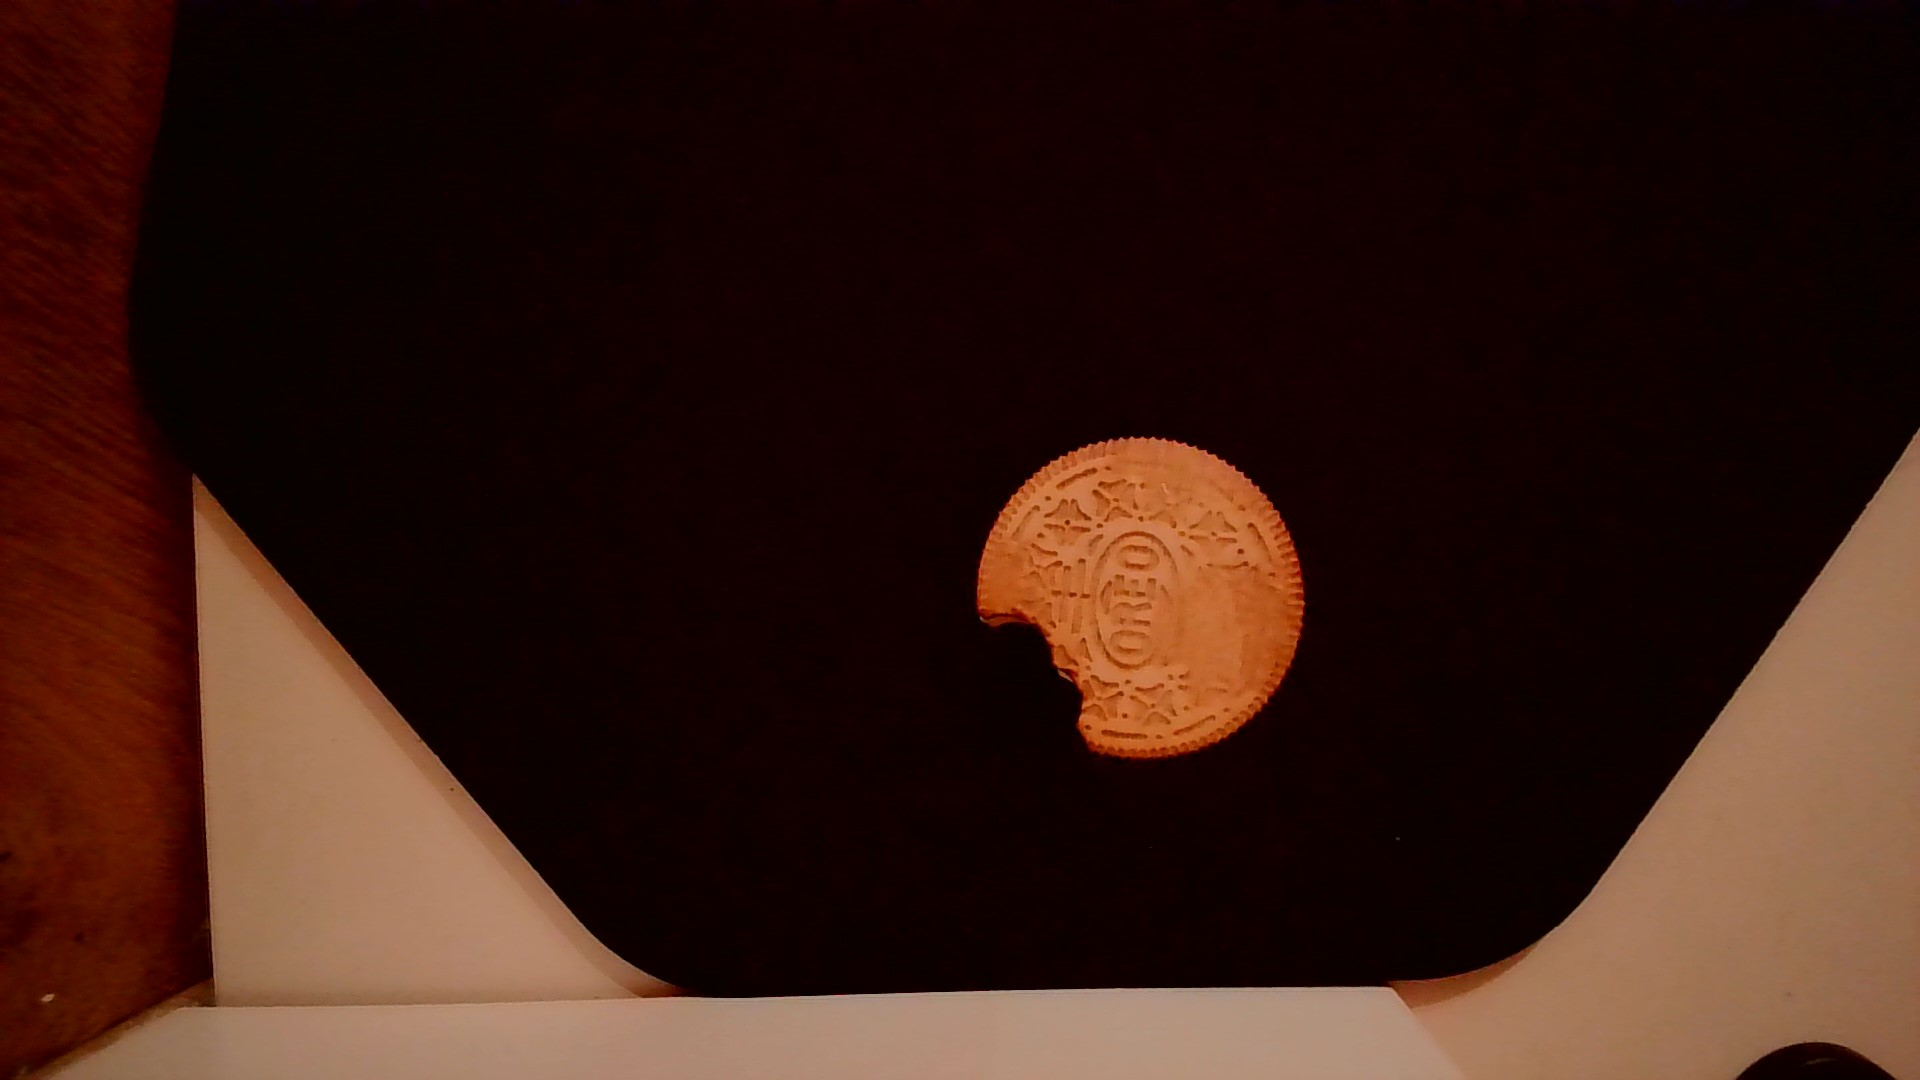Effacé: (1168, 567, 1290, 705), (1093, 436, 1215, 502), (985, 531, 1071, 615)
Mangé: (972, 608, 1109, 767)
Oréo: (967, 431, 1312, 767)
